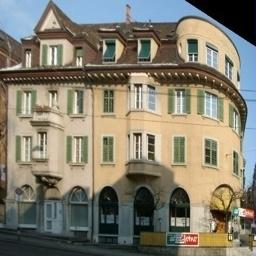building: (13, 13, 256, 256)
